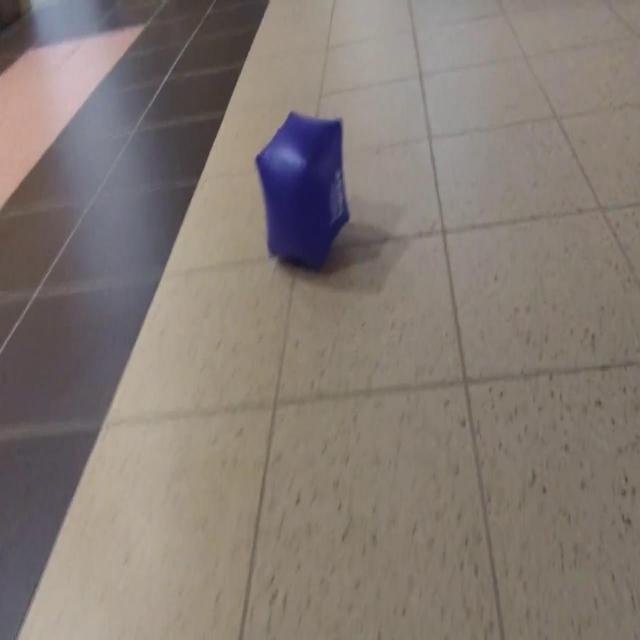frc_cube: (254, 112, 352, 271)
